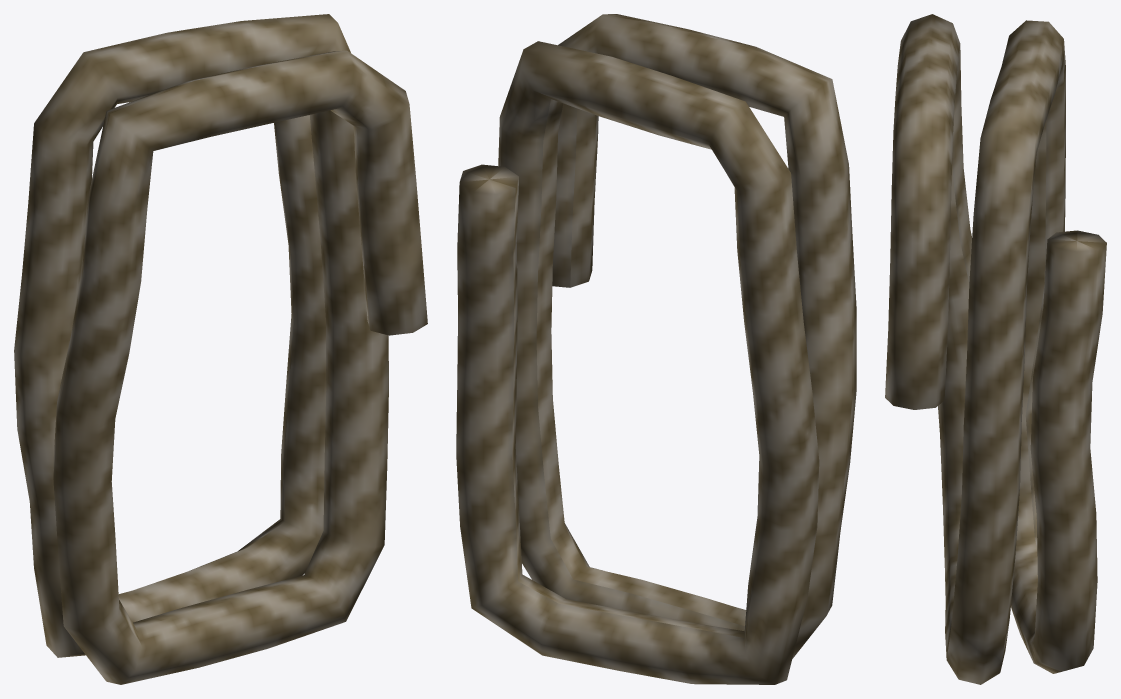
Rendered from SM_Rope-Wrap-SmallStraight.fbx.
3 views of the same model, side by side, from view 1: azimuth 30°, elevation 25°; view 2: azimuth 150°, elevation 25°; view 3: azimuth 270°, elevation 25° (orthographic). The views are drawn at different scales.
Visible parts, largest first — view 1: SM_Rope-Wrap-SmallStraight_LOD0; view 2: SM_Rope-Wrap-SmallStraight_LOD0; view 3: SM_Rope-Wrap-SmallStraight_LOD0.
Part boxes in pixels (x1,y1,x2,y2): SM_Rope-Wrap-SmallStraight_LOD0: [14, 14, 427, 684]; SM_Rope-Wrap-SmallStraight_LOD0: [456, 14, 856, 684]; SM_Rope-Wrap-SmallStraight_LOD0: [885, 14, 1106, 684].
Size of the model in its own units: 18.76 by 10.98 by 31.51.
Materials: 1 (1 with a texture image).
